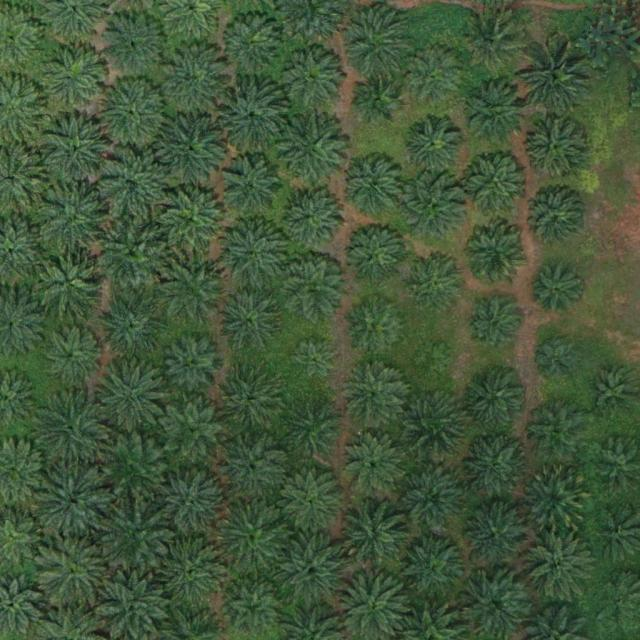Healthy: (97, 9, 168, 80), (340, 10, 411, 81), (460, 148, 531, 219), (96, 431, 167, 502), (37, 391, 108, 462), (100, 500, 171, 571), (279, 536, 350, 607), (42, 116, 112, 187), (97, 80, 167, 151), (97, 150, 167, 221), (217, 76, 287, 147), (277, 43, 347, 114), (462, 81, 532, 152), (460, 366, 530, 437), (397, 172, 467, 243), (399, 389, 469, 460), (397, 465, 467, 536), (220, 221, 290, 292), (217, 434, 287, 505), (158, 187, 228, 258), (156, 469, 226, 540), (99, 219, 169, 290), (96, 289, 166, 360), (97, 359, 167, 430), (34, 249, 105, 319), (37, 467, 108, 537), (38, 537, 108, 608), (161, 536, 231, 607), (340, 499, 410, 570), (396, 532, 466, 603), (523, 530, 593, 601), (522, 45, 592, 115), (162, 43, 232, 113), (157, 112, 227, 182), (278, 117, 348, 187), (461, 434, 531, 504), (159, 257, 229, 327), (40, 187, 110, 257), (219, 499, 289, 569), (465, 13, 528, 76), (42, 46, 105, 109), (220, 157, 283, 220), (524, 116, 587, 179), (525, 187, 588, 250), (525, 401, 588, 464), (407, 253, 470, 316), (219, 288, 282, 351), (217, 371, 280, 434), (40, 324, 103, 387), (221, 10, 283, 73), (339, 156, 402, 218), (403, 45, 465, 108), (401, 115, 463, 178), (344, 221, 406, 284), (346, 296, 408, 359), (341, 363, 403, 426), (341, 433, 403, 496), (281, 187, 343, 250), (282, 257, 344, 320), (283, 398, 345, 461), (282, 471, 344, 534), (163, 336, 225, 399), (163, 400, 225, 463), (464, 504, 526, 567), (464, 225, 526, 287), (529, 265, 584, 320), (467, 298, 522, 353), (226, 584, 281, 639), (354, 74, 401, 122)
Small: (290, 339, 337, 386), (537, 340, 576, 379), (413, 342, 452, 381)
Yellow: (520, 465, 591, 536)
